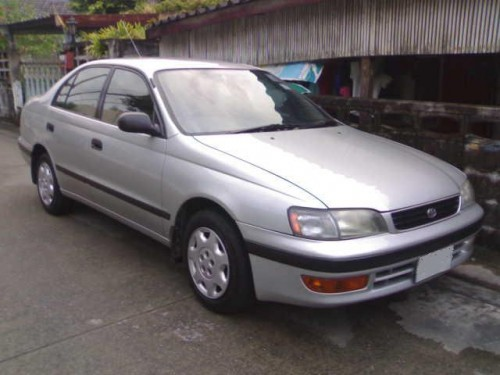sedan: (15, 56, 486, 315)
